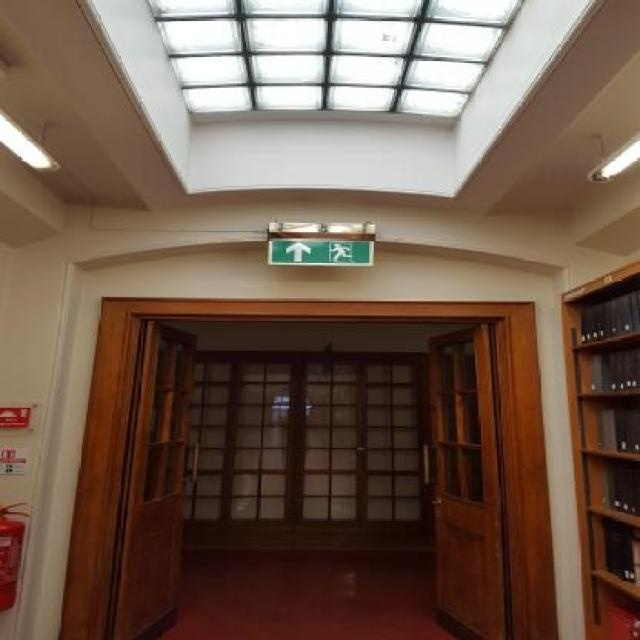fire extinguisher: (2, 502, 30, 613)
